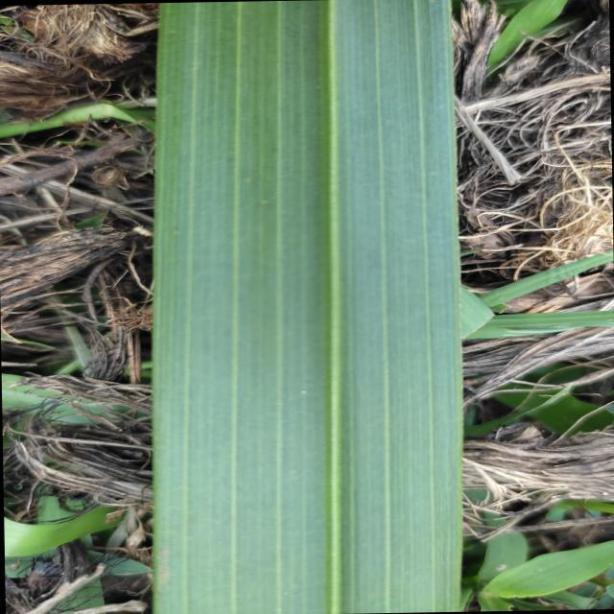Healthy: (153, 1, 458, 614)
